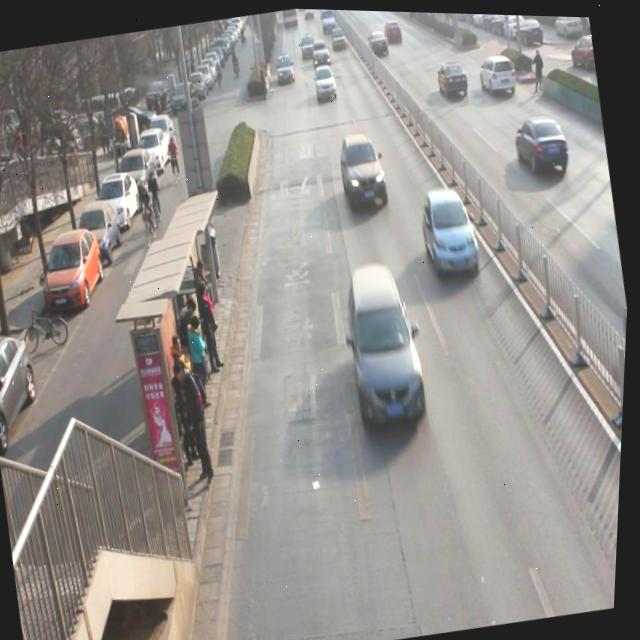car: (340, 259, 441, 434), (417, 182, 493, 285), (513, 109, 575, 183), (336, 130, 392, 206), (478, 48, 521, 100), (435, 57, 471, 99), (311, 62, 342, 104), (365, 28, 392, 60), (274, 52, 299, 86), (383, 15, 406, 47), (299, 29, 320, 62), (311, 37, 332, 67), (329, 24, 350, 51)
